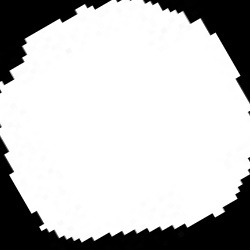spot: (1, 3, 250, 241)
